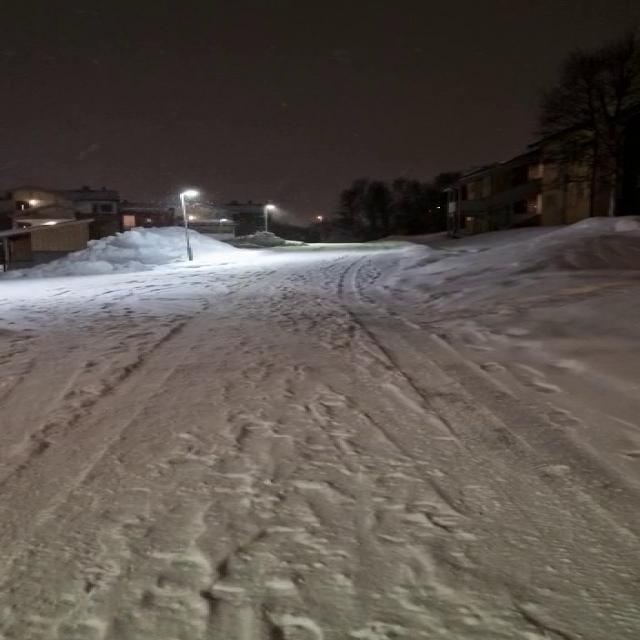path: (0, 242, 640, 640)
